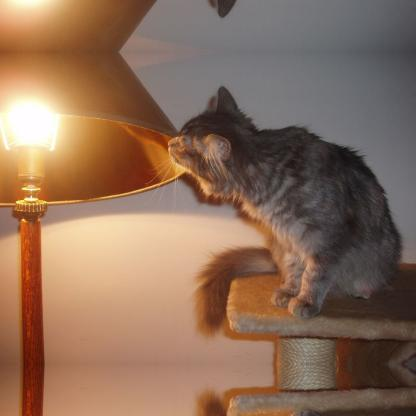Cat: (142, 86, 404, 336)
